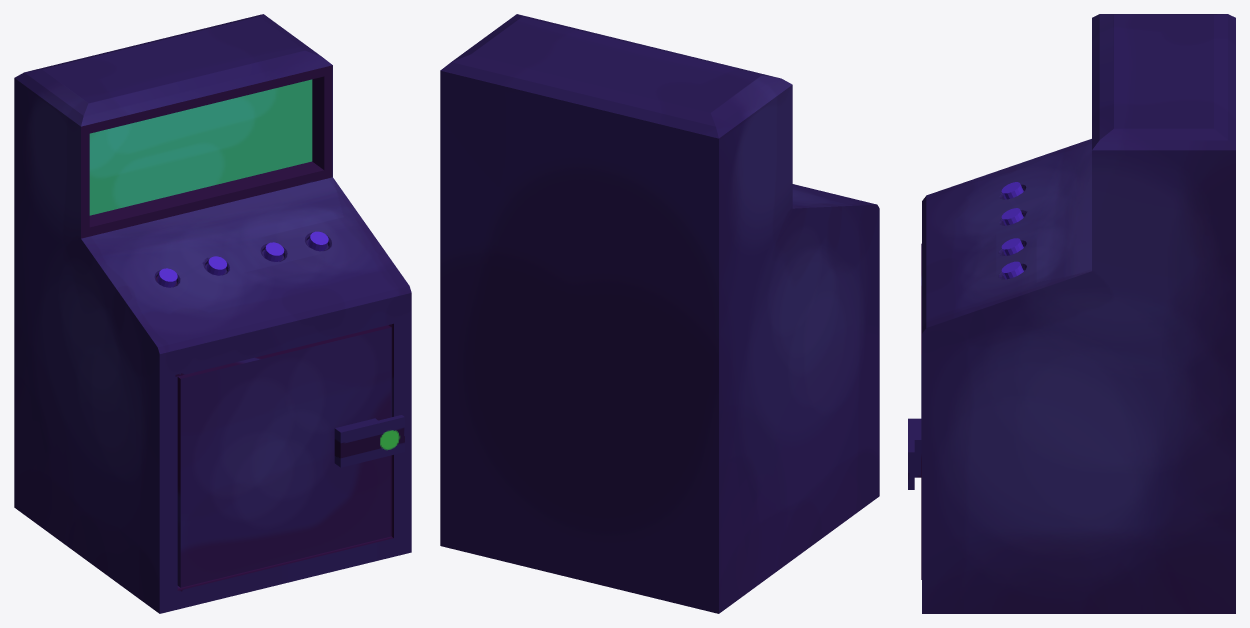
The model's file is elektrik.glb.
3 views of the same model, side by side, from view 1: azimuth 30°, elevation 25°; view 2: azimuth 150°, elevation 25°; view 3: azimuth 270°, elevation 25° (orthographic). The views are drawn at different scales.
Visible parts, largest first — view 1: Cube, Cube.002; view 2: Cube; view 3: Cube, Cube.002.
Part boxes in pixels (x1=…): Cube: x1=14, y1=14, x2=411, y2=613; Cube.002: x1=157, y1=231, x2=328, y2=287; Cube: x1=440, y1=14, x2=879, y2=613; Cube: x1=908, y1=14, x2=1235, y2=613; Cube.002: x1=1001, y1=182, x2=1023, y2=279.
Size of the model in its own units: 2 by 3.35 by 2.09.
2 materials, 2 textured.
